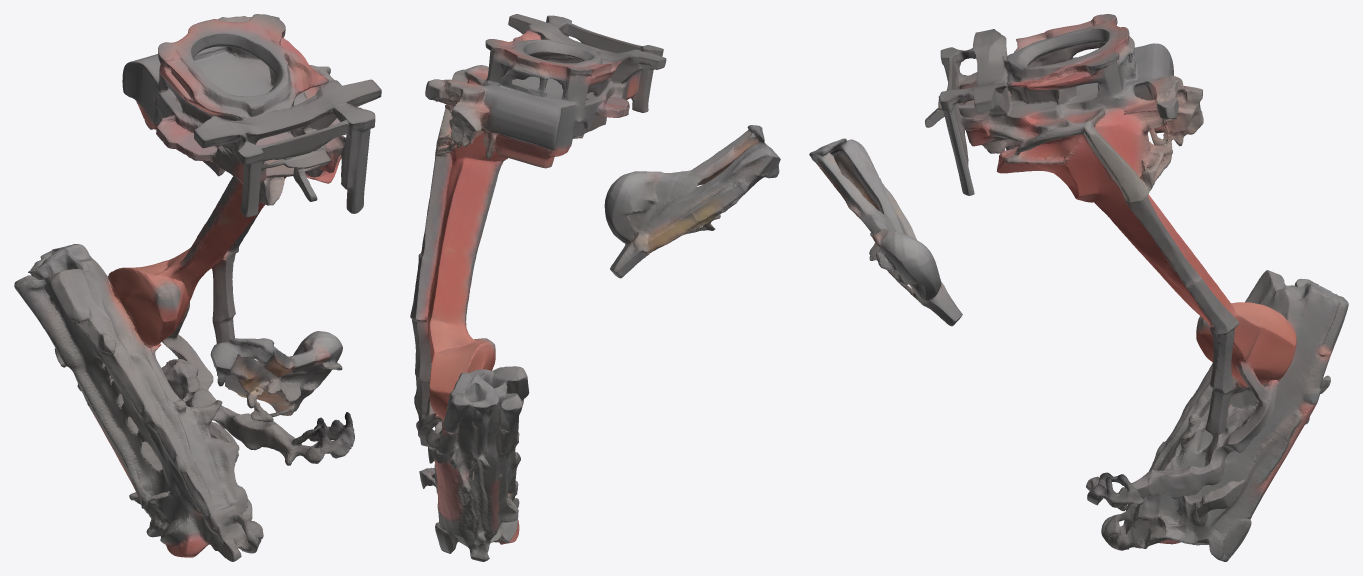
File: robot-multi.glb
3 views of the same model, side by side, from view 1: azimuth 30°, elevation 25°; view 2: azimuth 150°, elevation 25°; view 3: azimuth 270°, elevation 25° (orthographic). The views are drawn at different scales.
Parts seen in each view (by area): view 1: geometry_0; view 2: geometry_0; view 3: geometry_0.
Boxes of the visible parts, left/top/right/bottom form: geometry_0: left=14, top=14, right=381, bottom=561; geometry_0: left=410, top=14, right=780, bottom=561; geometry_0: left=809, top=14, right=1348, bottom=561.
Bounding box in the file's own units: 2.15 × 4.01 × 3.83.
